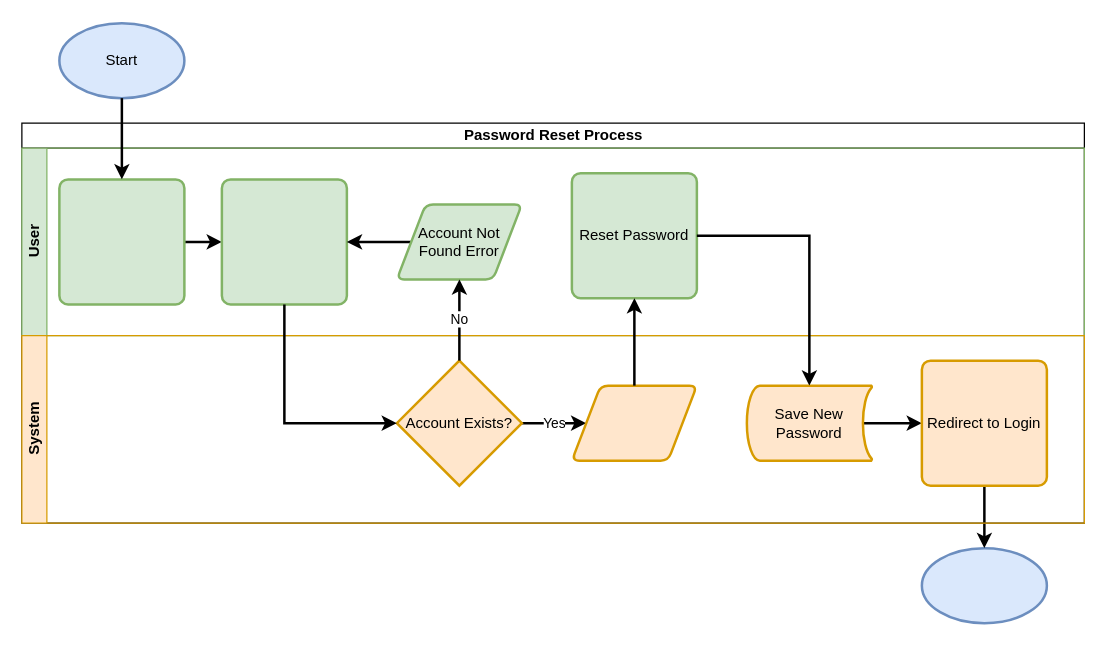
This 1106x645 diagram has some shape labels left out. Each missing label, with the centre of its shape:
End: pixel 984 585
Generate "Password Reset" Email: pixel 634 422
Initiate Forgotten Password: pixel 121 241
Verify Existing Account: pixel 284 241
